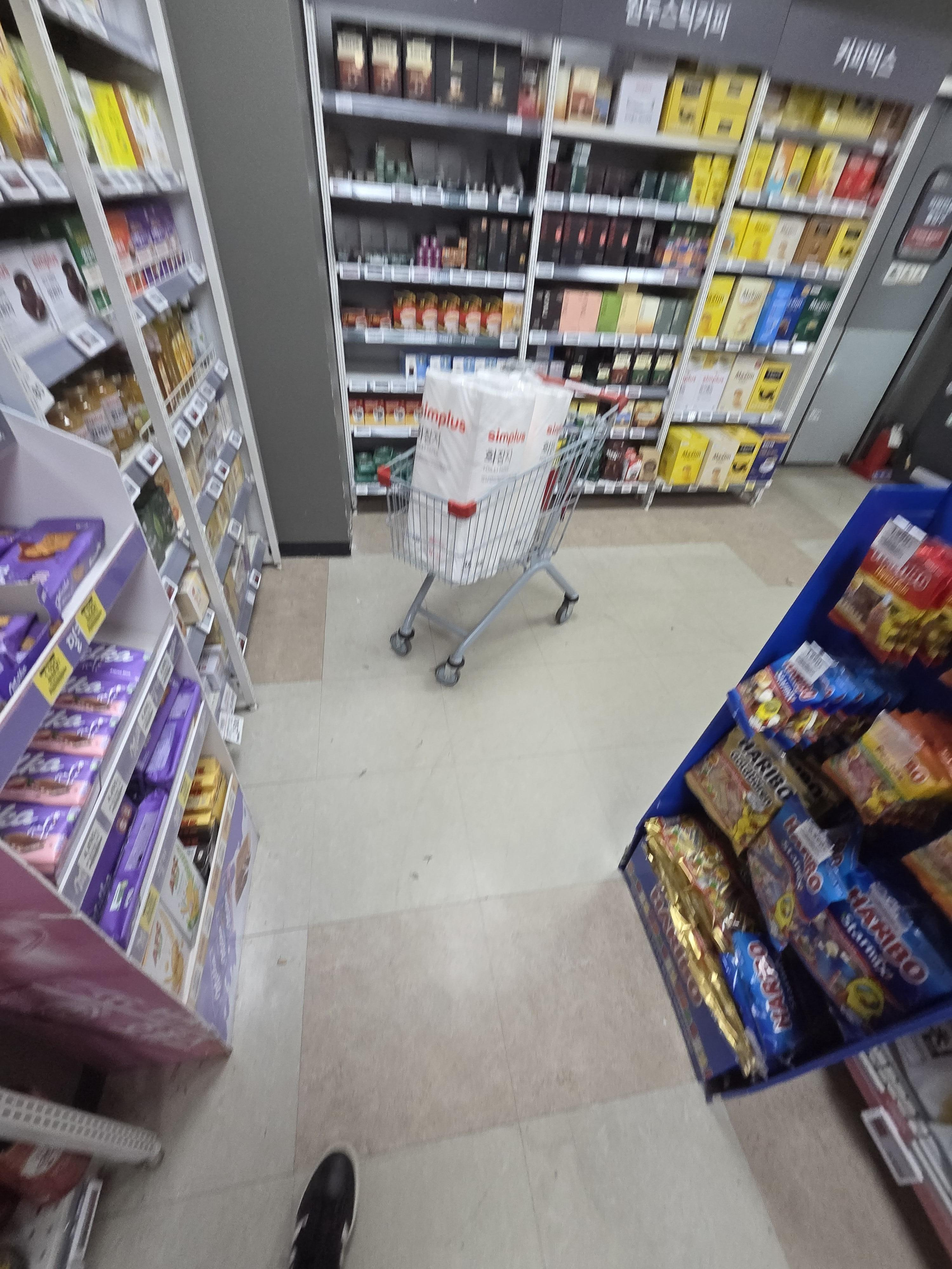fully_cart: (392, 360, 626, 685)
